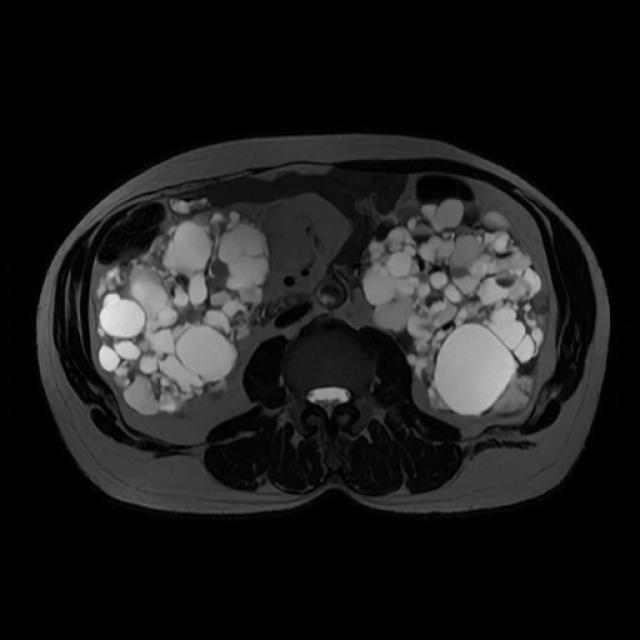sag: (95, 209, 270, 419)
sol: (361, 199, 550, 417)
